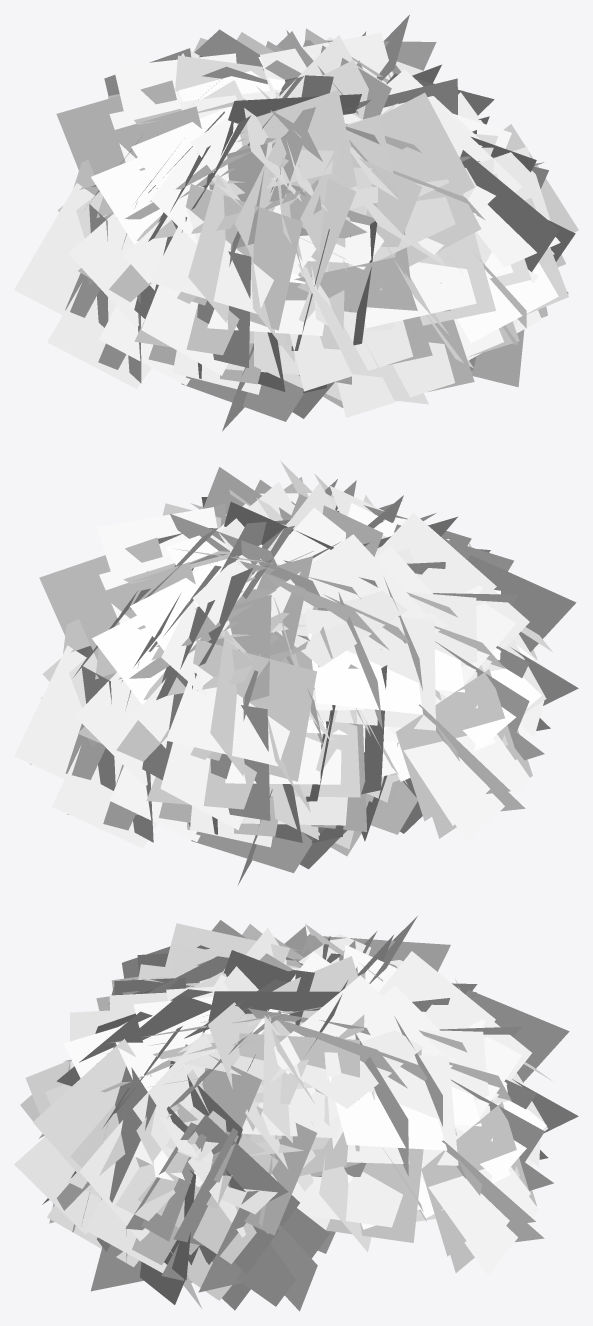
Rendered from BC_Flower_A.fbx.
3 renders of one model, top to bottom at view 1: azimuth 30°, elevation 25°; view 2: azimuth 150°, elevation 25°; view 3: azimuth 270°, elevation 25°, orthographic.
Parts seen in each view (by area): view 1: BC_Flower_A; view 2: BC_Flower_A; view 3: BC_Flower_A.
Boxes of the visible parts, x1,y1,x2,y2 form: BC_Flower_A: [14, 14, 578, 431]; BC_Flower_A: [14, 460, 578, 885]; BC_Flower_A: [14, 916, 578, 1311].
Bounding box in the file's own units: 671 × 417 × 699.
1 material, 1 textured.
